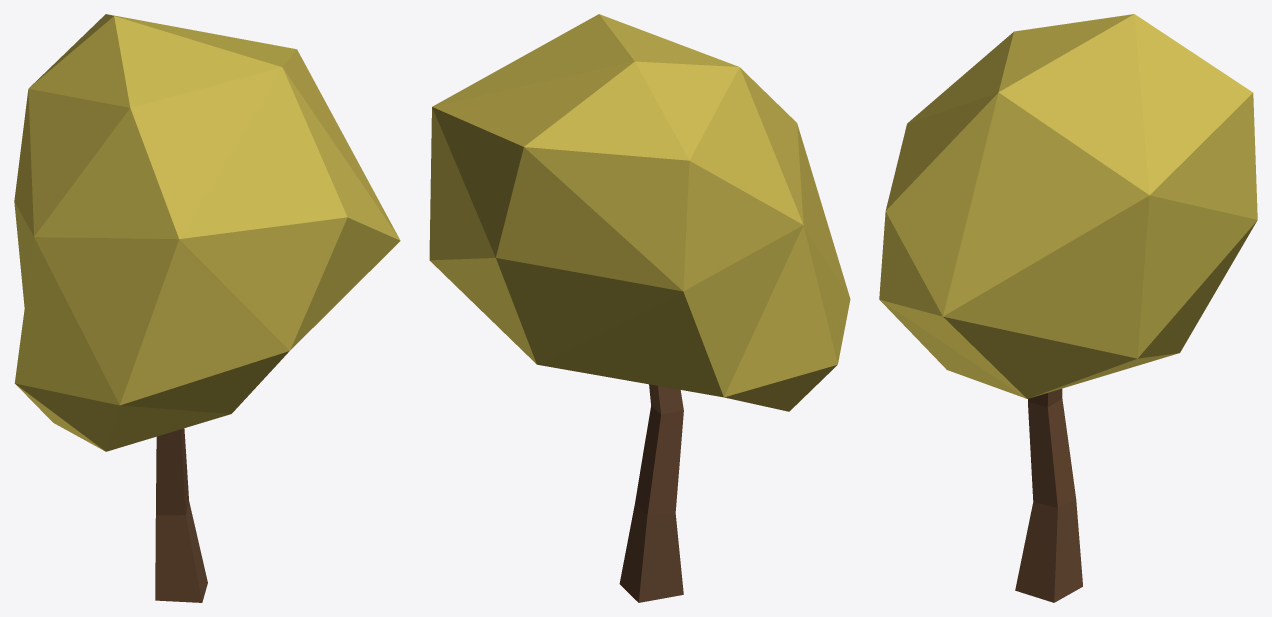
File: mesh_tree_01_green.fbx
The picture shows the model from 3 angles, left to right: view 1: azimuth 30°, elevation 25°; view 2: azimuth 150°, elevation 25°; view 3: azimuth 270°, elevation 25°; orthographic projection. The views are drawn at different scales.
Parts seen in each view (by area): view 1: mesh_tree_01_green; view 2: mesh_tree_01_green; view 3: mesh_tree_01_green.
Boxes of the visible parts, x1,y1,x2,y2 form: mesh_tree_01_green: [14, 14, 400, 602]; mesh_tree_01_green: [429, 14, 850, 602]; mesh_tree_01_green: [879, 14, 1257, 602].
Size of the model in its own units: 373 by 565 by 345.
